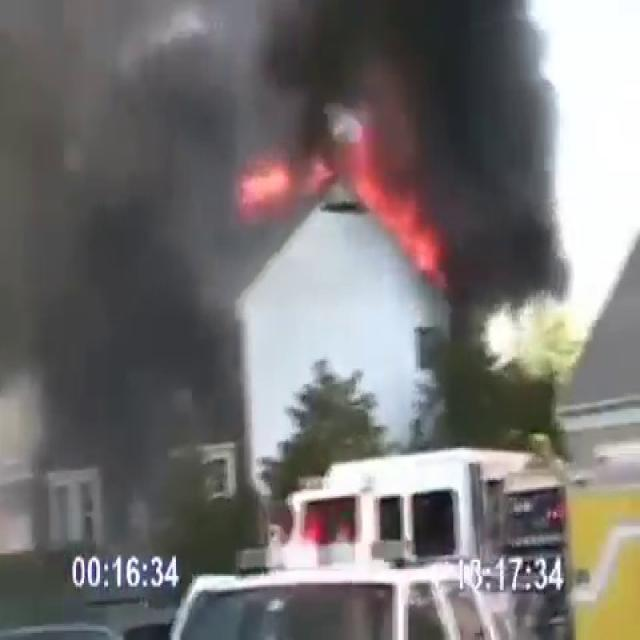Smoke: (10, 0, 582, 300), (0, 0, 264, 553)
